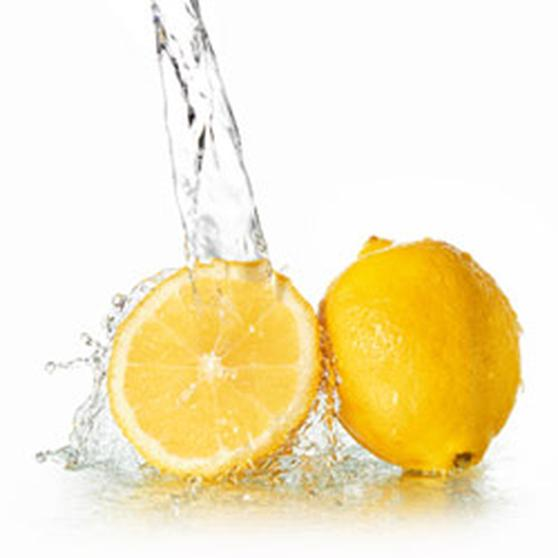lemon: (312, 239, 527, 479)
